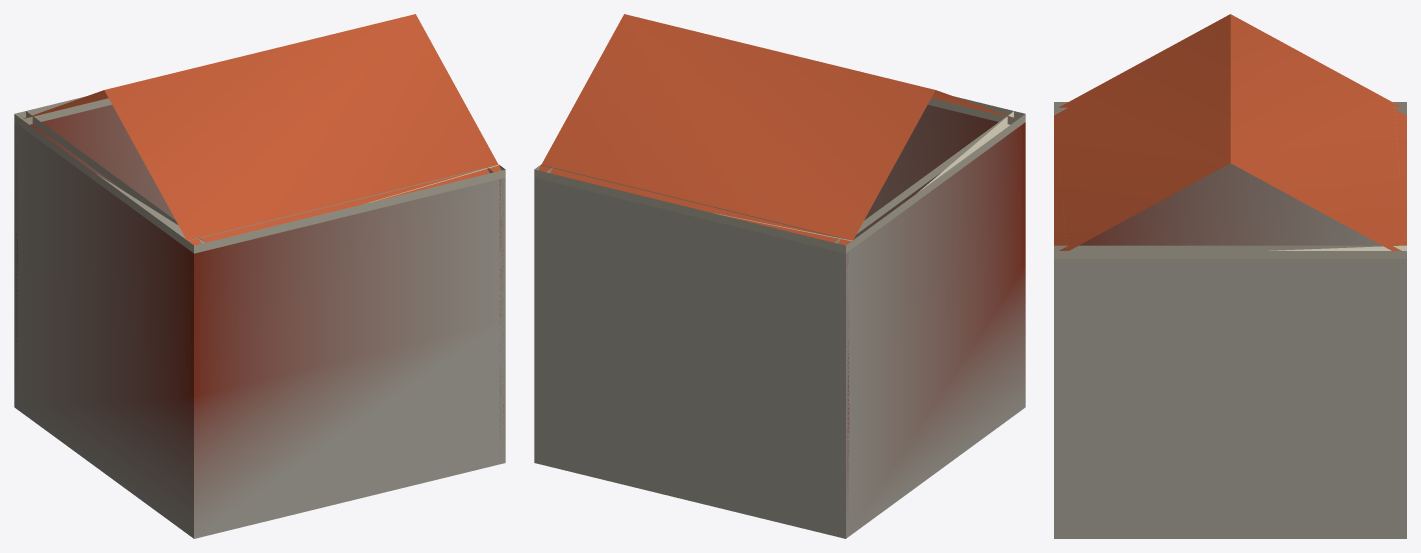
File: house_2.glb
3 views of the same model, side by side, from view 1: azimuth 30°, elevation 25°; view 2: azimuth 150°, elevation 25°; view 3: azimuth 270°, elevation 25° (orthographic).
Visible parts, largest first — view 1: house_2__wall_0_xb, house_2_roof_-1_xb, house_2__wall_3_xb, house_2__wall_2_xb, house_2__cornice_0_xb, house_2__cornice_3_xb, house_2__wall_1_xb, house_2__cornice_2_xb; view 2: house_2__wall_2_xb, house_2_roof_1_xb, house_2__wall_3_xb, house_2__wall_0_xb, house_2__cornice_2_xb, house_2__cornice_3_xb, house_2__wall_1_xb, house_2__cornice_0_xb; view 3: house_2__wall_1_xb, house_2_roof_-1_xb, house_2_roof_1_xb, house_2__wall_3_xb, house_2__cornice_1_xb, house_2__wall_0_xb, house_2__wall_2_xb.
Boxes of the visible parts, <box> form: house_2__wall_0_xb: <box>190,178,505,538</box>; house_2_roof_-1_xb: <box>104,14,501,245</box>; house_2__wall_3_xb: <box>14,122,200,538</box>; house_2__wall_2_xb: <box>14,105,175,408</box>; house_2__cornice_0_xb: <box>187,164,505,253</box>; house_2__cornice_3_xb: <box>14,111,205,252</box>; house_2__wall_1_xb: <box>499,177,505,463</box>; house_2__cornice_2_xb: <box>14,96,111,126</box>; house_2__wall_2_xb: <box>534,178,849,538</box>; house_2_roof_1_xb: <box>538,14,935,245</box>; house_2__wall_3_xb: <box>839,125,1025,538</box>; house_2__wall_0_xb: <box>853,105,1025,409</box>; house_2__cornice_2_xb: <box>534,164,852,253</box>; house_2__cornice_3_xb: <box>834,111,1025,252</box>; house_2__wall_1_xb: <box>534,177,540,464</box>; house_2__cornice_0_xb: <box>928,96,1025,124</box>; house_2__wall_1_xb: <box>1054,259,1406,538</box>; house_2_roof_-1_xb: <box>1054,14,1230,250</box>; house_2_roof_1_xb: <box>1230,14,1406,250</box>; house_2__wall_3_xb: <box>1079,163,1381,245</box>; house_2__cornice_1_xb: <box>1054,245,1406,258</box>; house_2__wall_0_xb: <box>1054,259,1060,538</box>; house_2__wall_2_xb: <box>1400,259,1406,538</box>.
Size of the model in its own units: 0.8 by 0.94 by 0.8.
